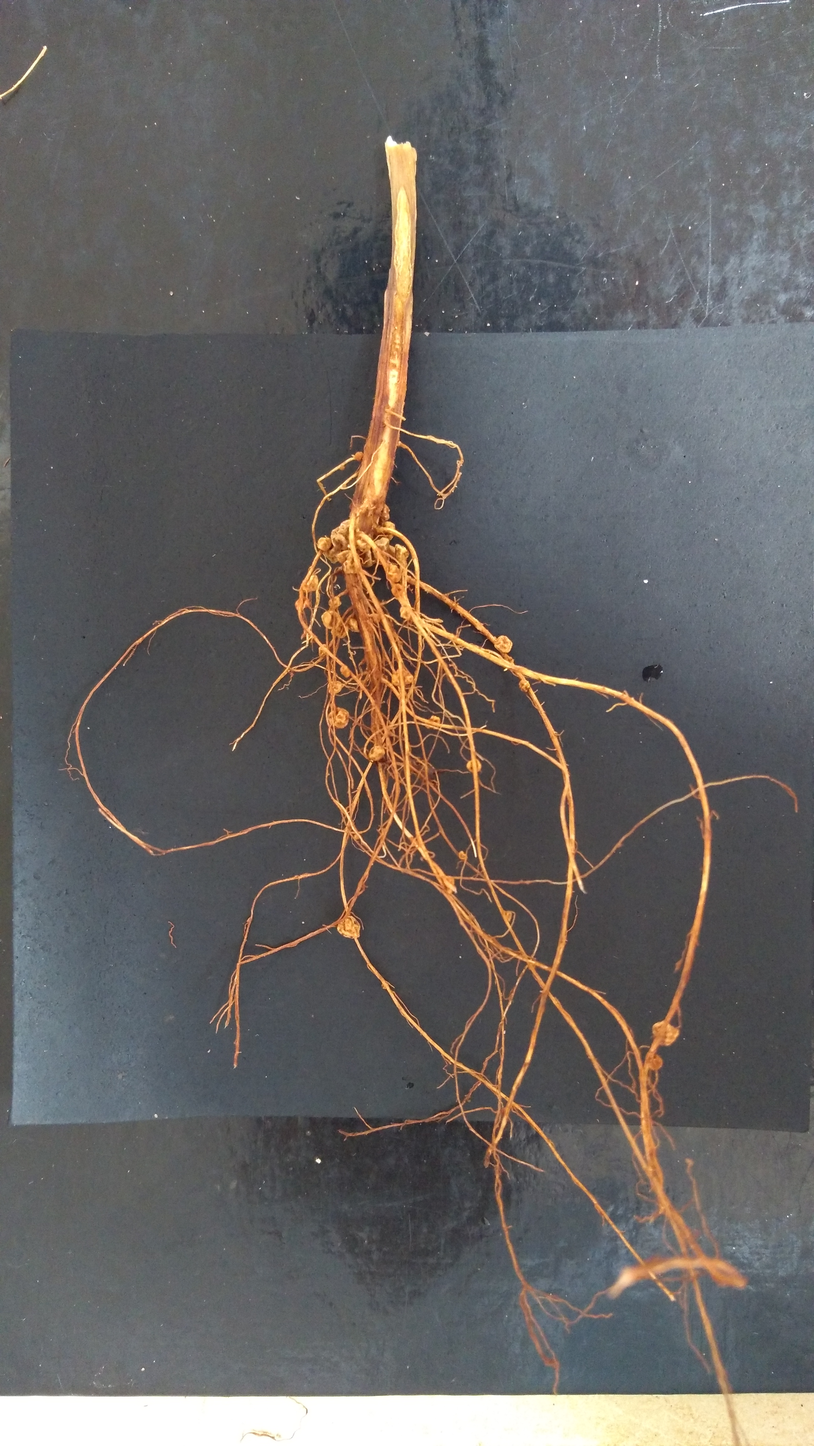nodule: (650, 1019, 684, 1050), (336, 914, 362, 941), (330, 518, 351, 550), (326, 705, 351, 730), (373, 536, 392, 565), (645, 1052, 668, 1075), (390, 667, 415, 688), (320, 610, 341, 630), (493, 634, 514, 654), (385, 562, 404, 584), (367, 745, 387, 763), (329, 622, 350, 639), (302, 573, 319, 593), (394, 542, 410, 563), (423, 714, 442, 731), (382, 520, 396, 542), (466, 757, 483, 775), (316, 535, 332, 552), (378, 503, 392, 522), (390, 582, 406, 598), (327, 679, 343, 695), (294, 596, 311, 611), (398, 604, 413, 621), (356, 538, 372, 553), (326, 596, 343, 610), (347, 617, 361, 634), (336, 549, 354, 562), (342, 560, 356, 576), (518, 677, 531, 694), (456, 849, 470, 862), (317, 643, 328, 659), (353, 450, 365, 463), (339, 666, 351, 678), (503, 909, 512, 923), (338, 464, 346, 471), (341, 483, 347, 488)
